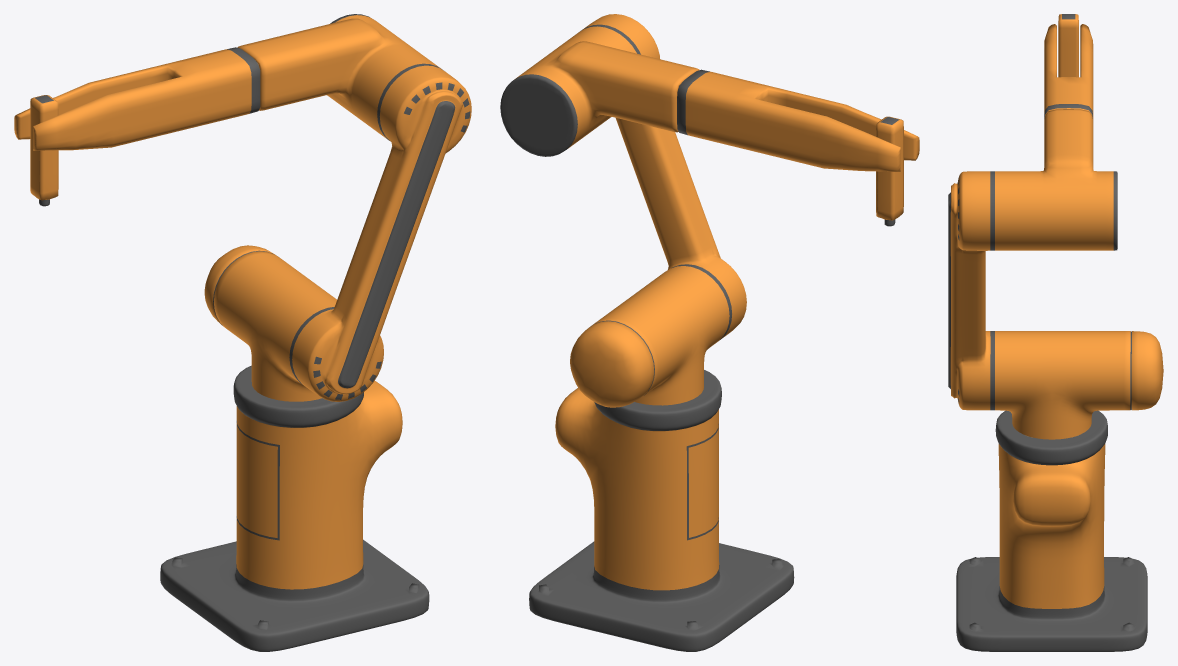
File: industrial_robot.glb
3 renders of one model, left to right at view 1: azimuth 30°, elevation 25°; view 2: azimuth 150°, elevation 25°; view 3: azimuth 270°, elevation 25°, orthographic. The views are drawn at different scales.
Parts seen in each view (by area): view 1: Circle.033_0; view 2: Circle.033_0; view 3: Circle.033_0.
Boxes of the visible parts, <box> form: Circle.033_0: <box>14,14,471,651</box>; Circle.033_0: <box>500,14,919,651</box>; Circle.033_0: <box>948,14,1163,651</box>.
Bounding box in the file's own units: 1.04 × 1.42 × 0.562.
